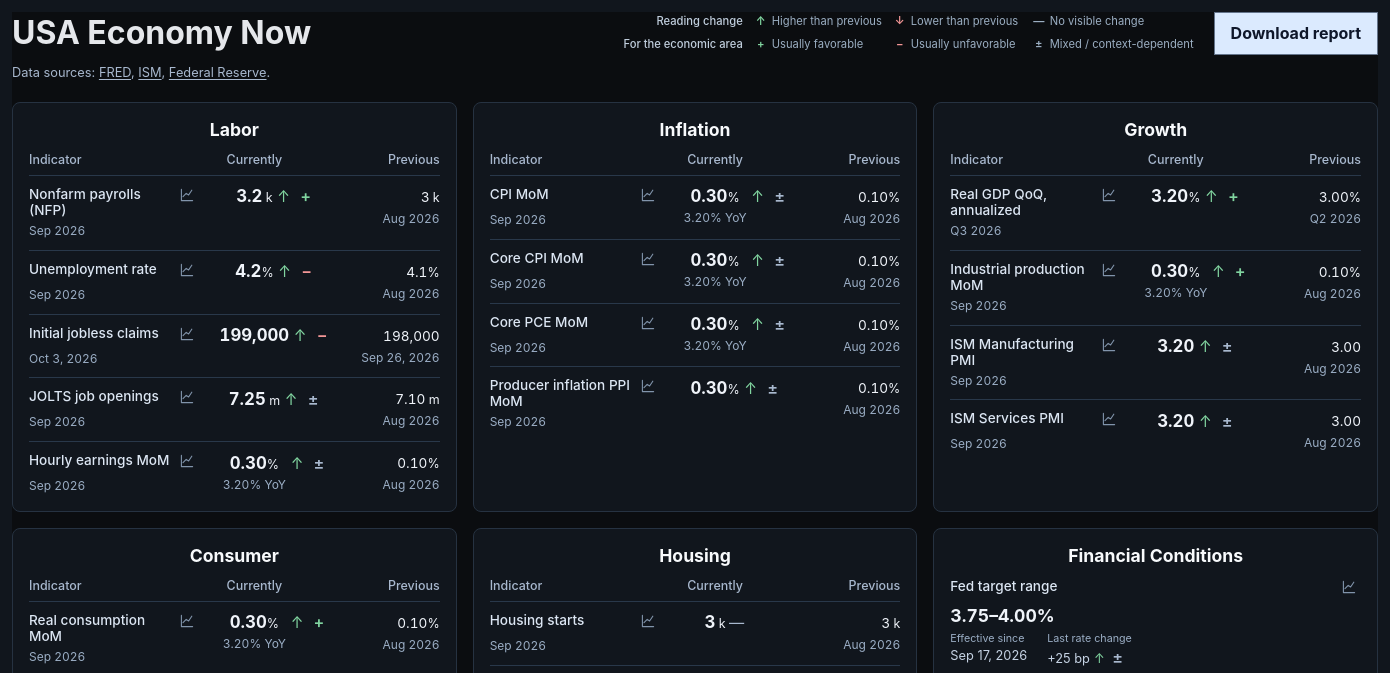
Scenario: Overview reading arrows expose a dismissible comparison popup
Click the button "↑" next to "4.2" at (285, 272), box [276,261,294,283]
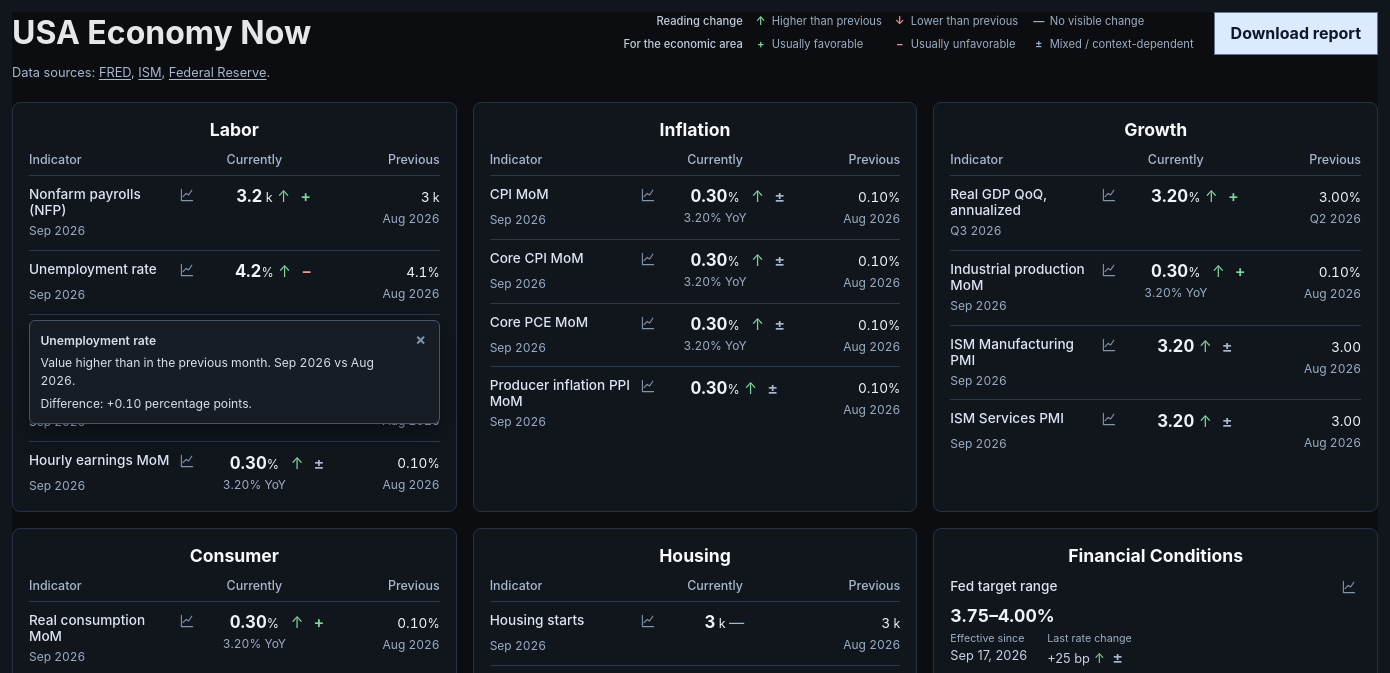
Click the button named "Close explanation" at (421, 340), box [408,326,434,352]
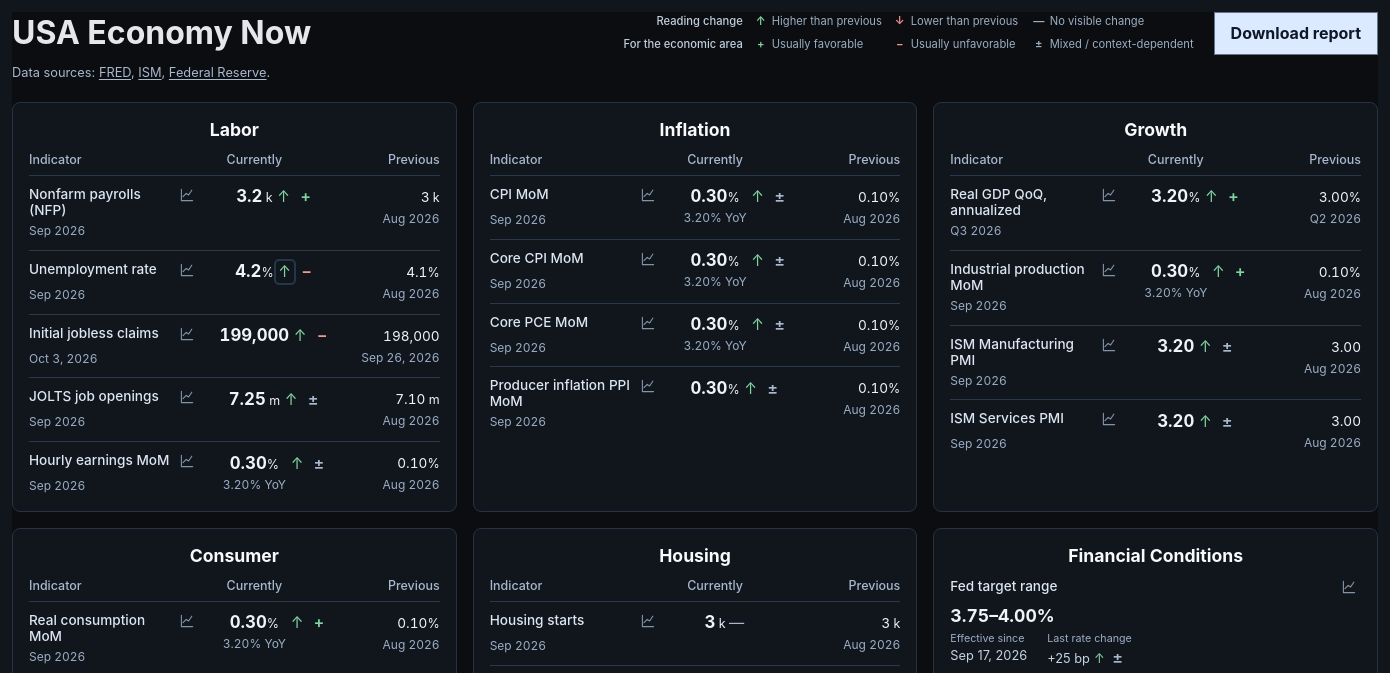
Check: the button "↑" next to "4.2" is collapsed, box [276,261,294,283]
